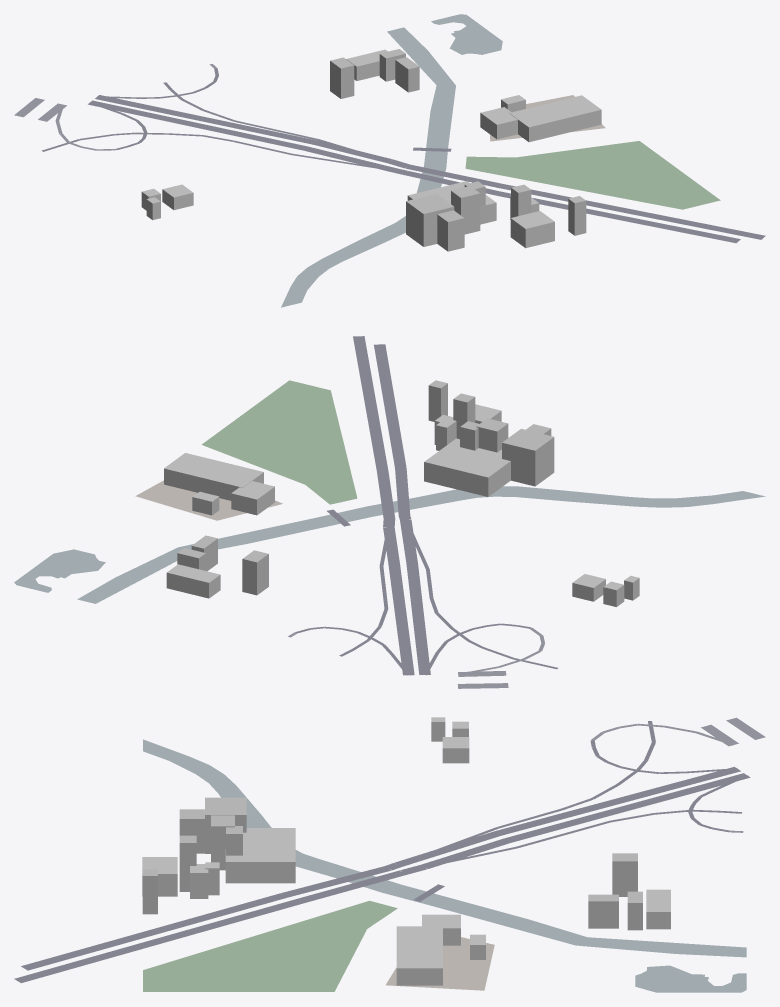
The model's file is 133_113_mid.glb.
3 renders of one model, top to bottom at view 1: azimuth 30°, elevation 25°; view 2: azimuth 150°, elevation 25°; view 3: azimuth 270°, elevation 25°, orthographic. The views are drawn at different scales.
Bounding box in the file's own units: 521 × 45.65 × 623.
